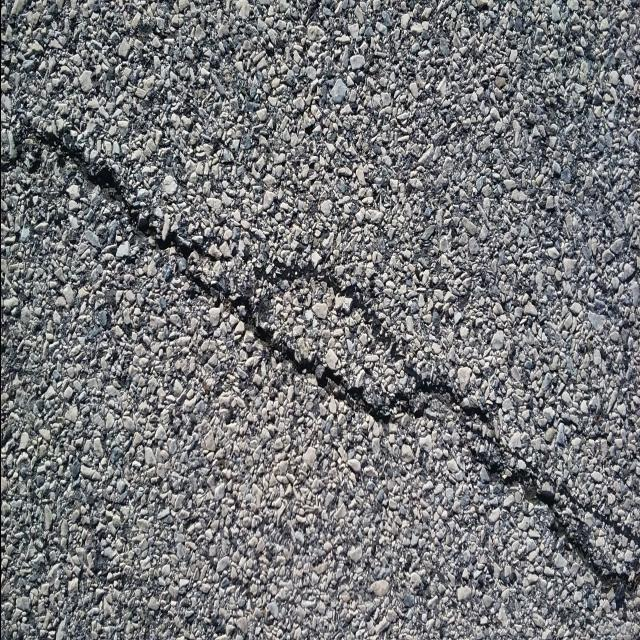Crack: (0, 118, 640, 622), (559, 489, 640, 552)
